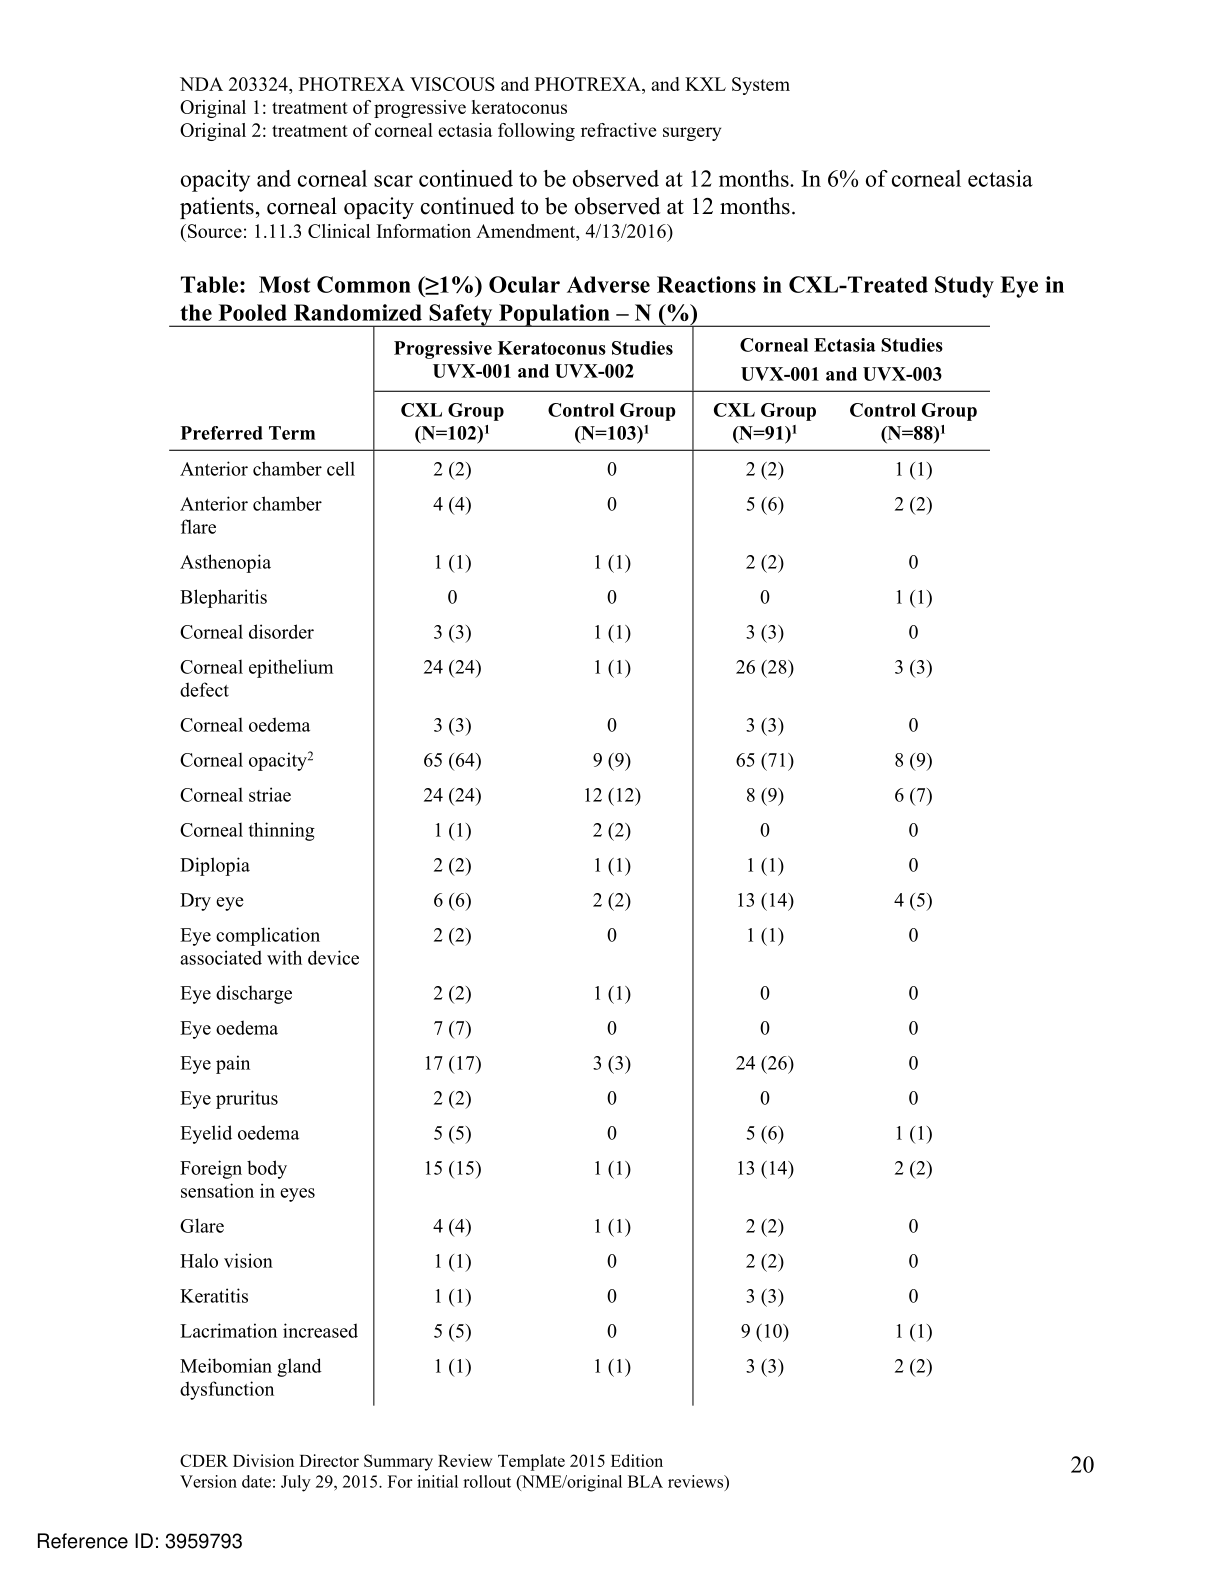partial_lined_merged_cells: (166, 324, 993, 1410)
